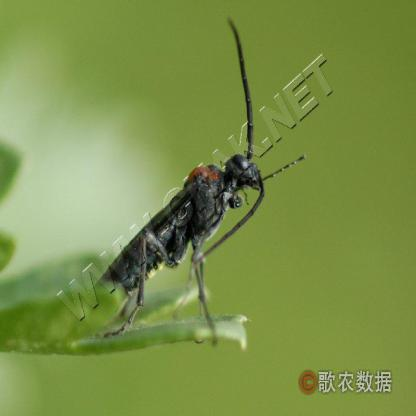sawfly: (75, 9, 305, 348)
